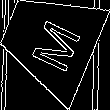M_NW: (19, 10, 79, 72)
